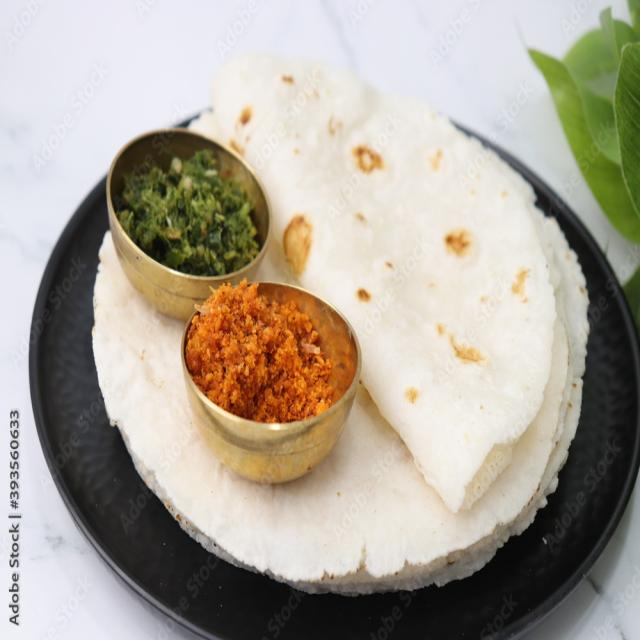ROTI: (92, 213, 589, 593), (195, 56, 559, 509)
